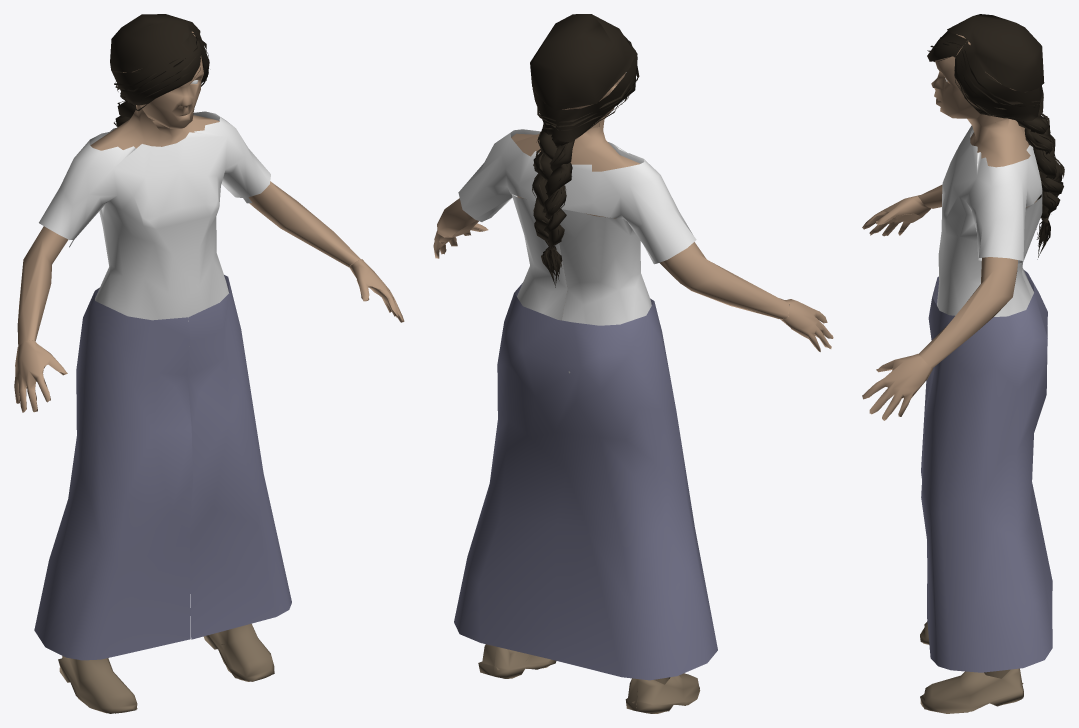
The model's file is child_01.glb.
3 renders of one model, left to right at view 1: azimuth 30°, elevation 25°; view 2: azimuth 150°, elevation 25°; view 3: azimuth 270°, elevation 25°, orthographic. The views are drawn at different scales.
Visible parts, largest first — view 1: crowd; view 2: crowd; view 3: crowd.
Boxes of the visible parts, x1,y1,x2,y2 form: crowd: [14, 14, 404, 713]; crowd: [433, 14, 833, 713]; crowd: [862, 14, 1064, 713].
Size of the model in its own units: 0.7788 by 1.29 by 0.3611.
